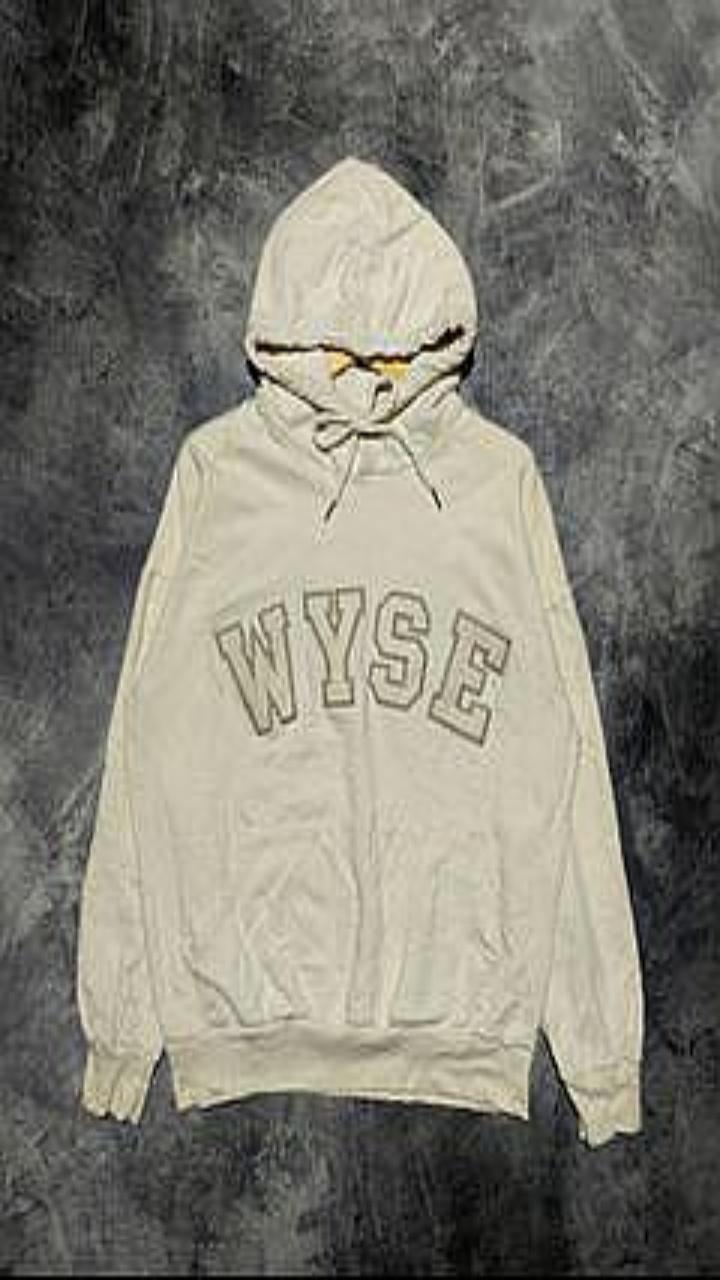Hoodie: (78, 157, 642, 1145)
